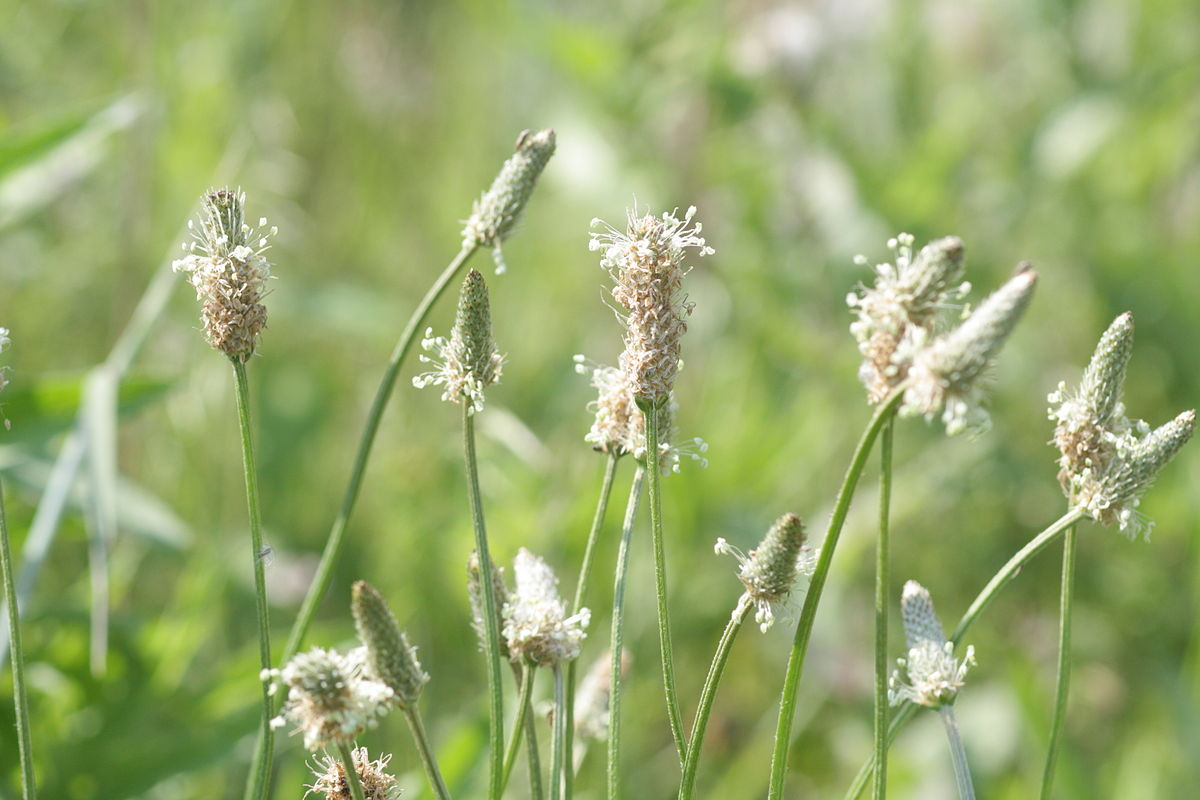buckhorn plantain: (114, 116, 1189, 788)
